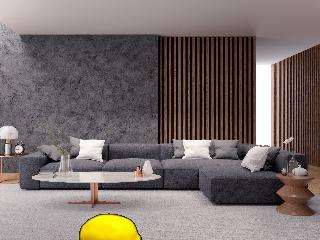lemon: (82, 215, 141, 240)
